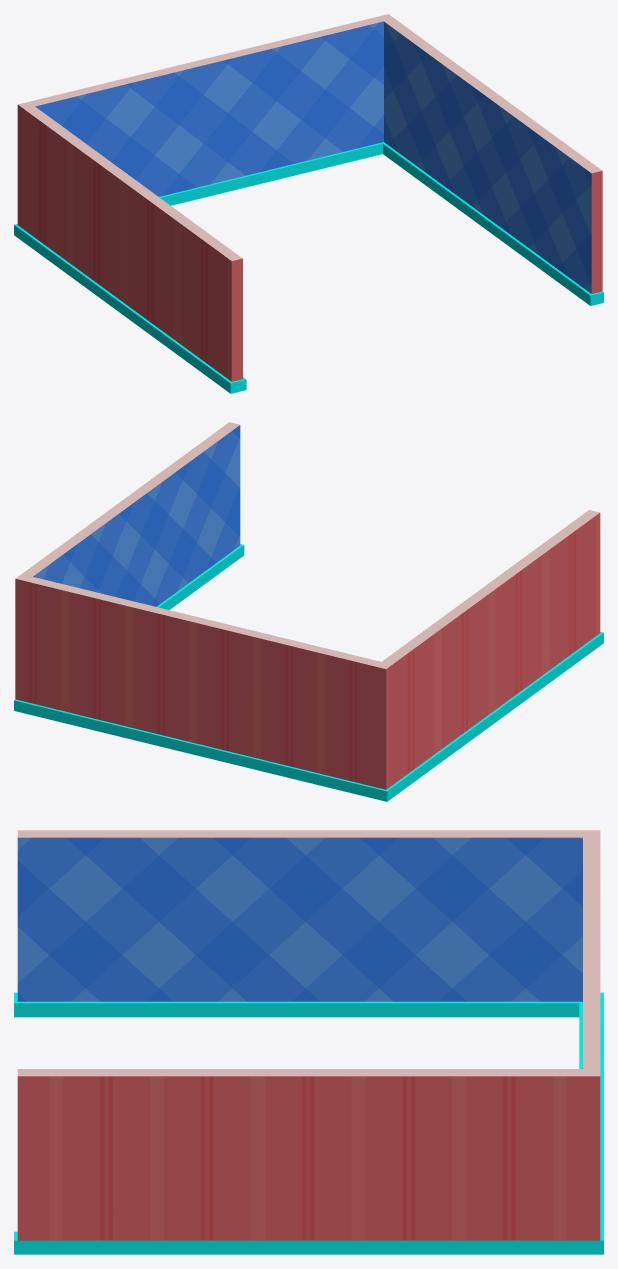
File: Eventrm01_Wall_geo.fbx
3 renders of one model, top to bottom at view 1: azimuth 30°, elevation 25°; view 2: azimuth 150°, elevation 25°; view 3: azimuth 270°, elevation 25°, orthographic. The views are drawn at different scales.
Visible parts, largest first — view 1: Eventrm01_Wall_geo; view 2: Eventrm01_Wall_geo; view 3: Eventrm01_Wall_geo.
Boxes of the visible parts, <box> form: Eventrm01_Wall_geo: <box>14,14,603,393</box>; Eventrm01_Wall_geo: <box>14,422,603,801</box>; Eventrm01_Wall_geo: <box>14,830,603,1254</box>.
Bounding box in the file's own units: 6.07 × 6.1 × 2.04.
